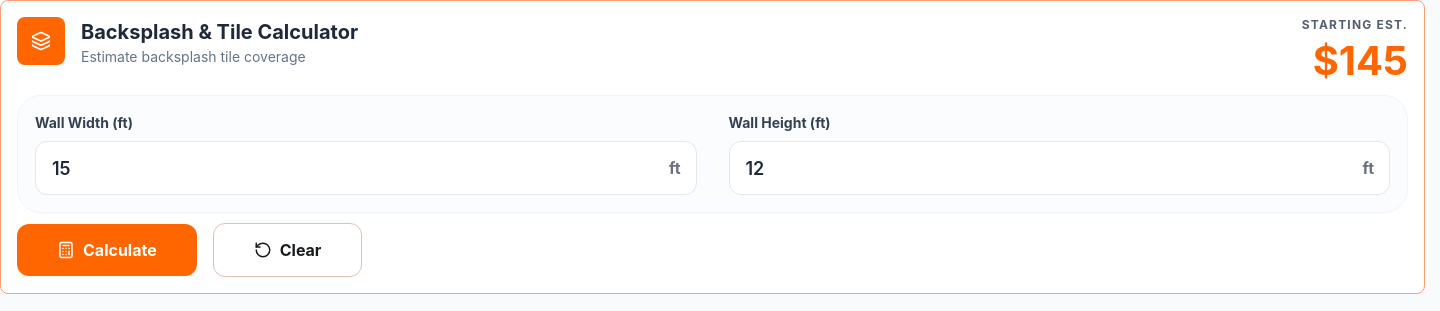
BacksplashCalculator › calculates and clears the estimate from wall width and height inputs
Replace the text in the number field labelled "Wall Width (ft)" with "20". click: (366, 168)
box: [35, 141, 696, 195]
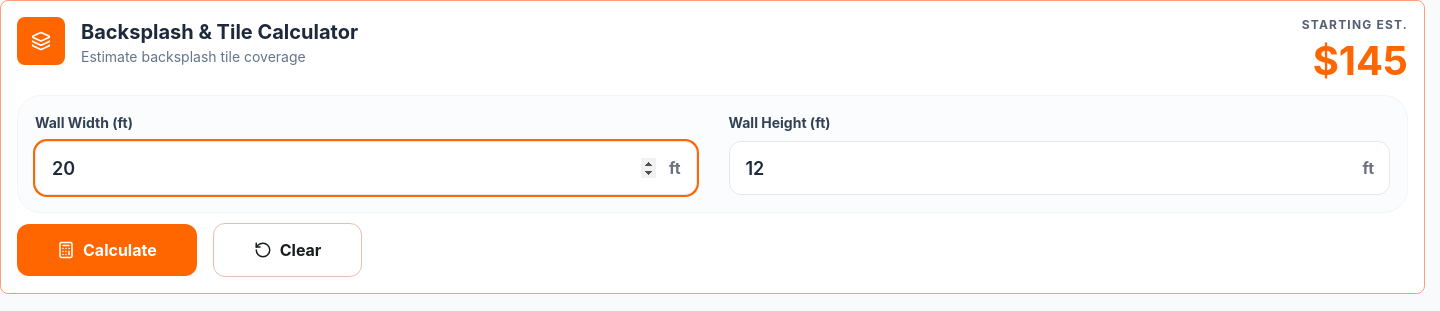
Replace the text in the number field labelled "Wall Height (ft)" with "10". click: (1059, 168)
box: [728, 141, 1390, 195]
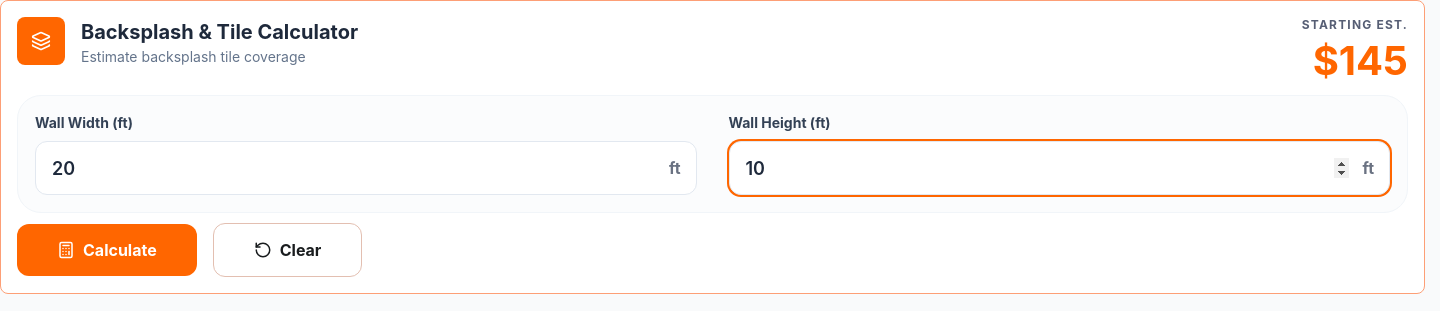
Click the button "Calculate". click: (107, 250)
box: [17, 224, 197, 276]
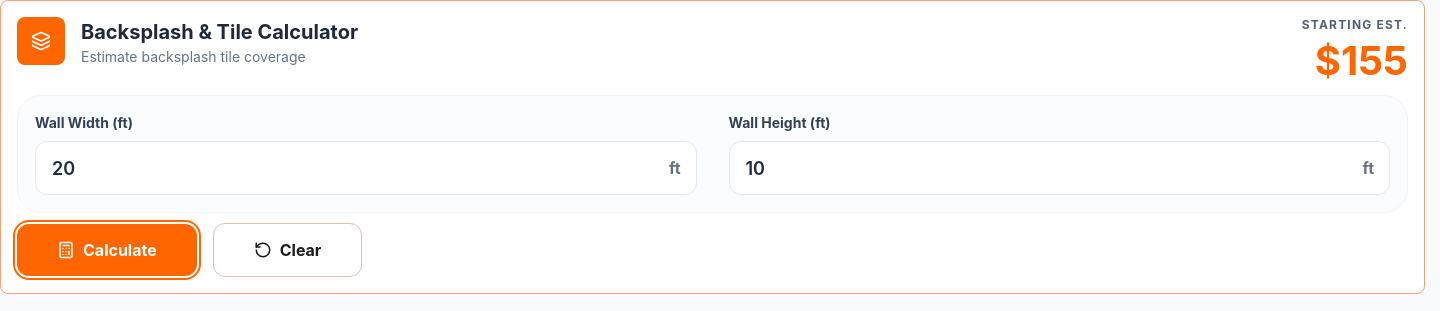
Now the text with test id "backsplash-calculator-estimate" reads "$155", box [1315, 36, 1408, 85]
Click the button "Clear". click: (288, 250)
box: [213, 223, 362, 277]
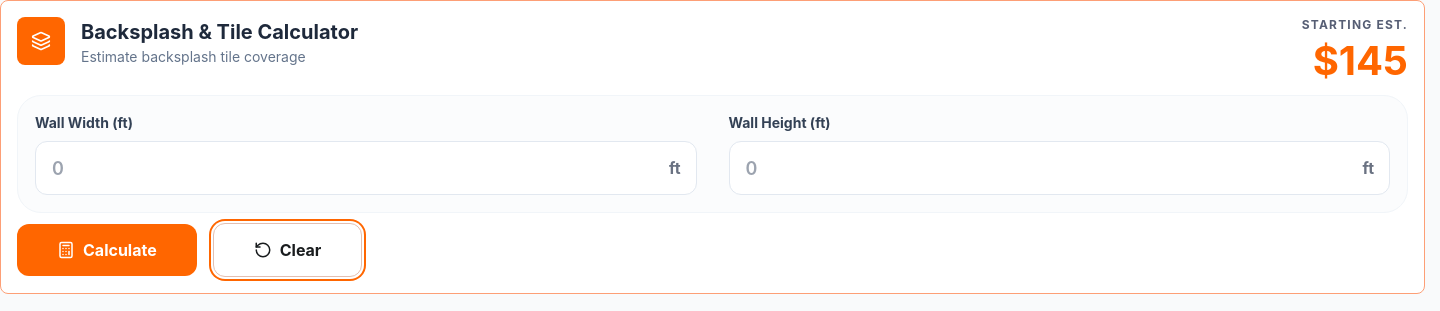
Now the text with test id "backsplash-calculator-estimate" reads "$145", box [1313, 36, 1408, 85]
